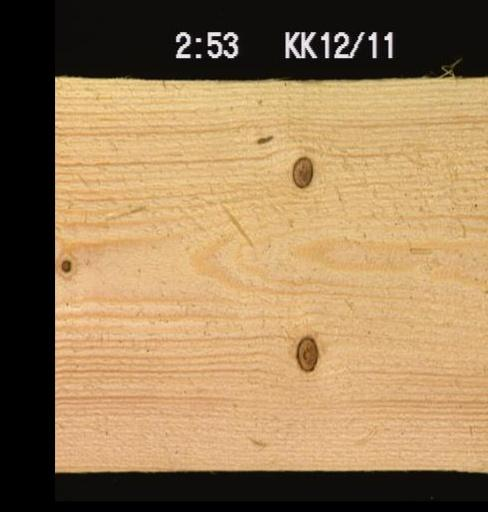dry_knot: (292, 333, 319, 371), (289, 153, 312, 189), (57, 250, 75, 280)
